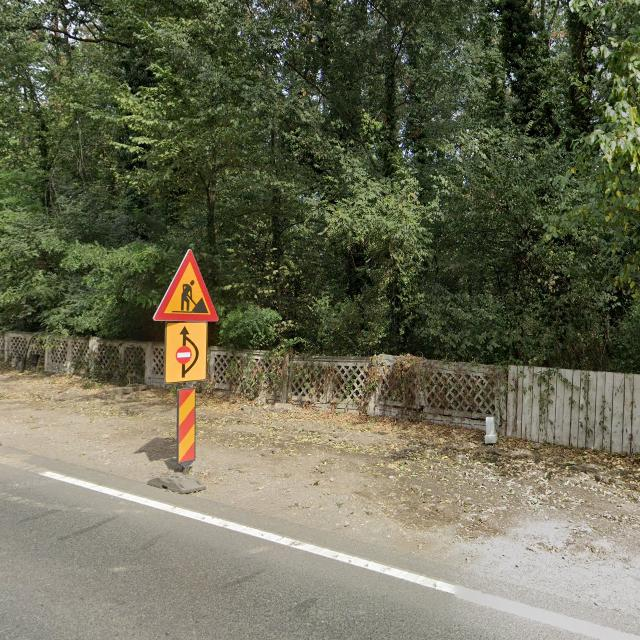forb_ahead: (176, 345, 192, 364)
warn_construction: (152, 248, 219, 322)
